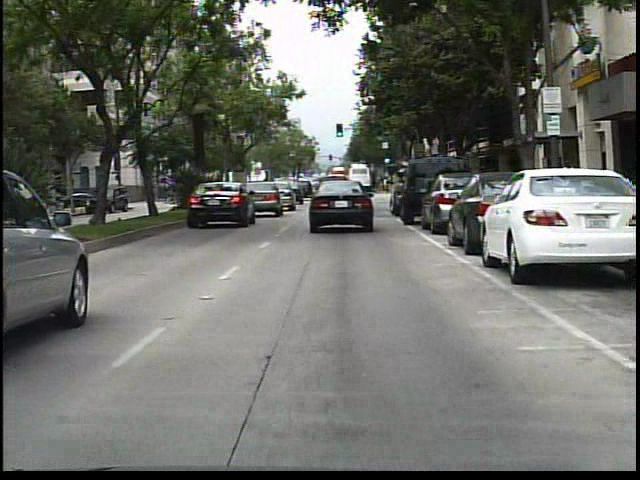person: (556, 156, 579, 217)
